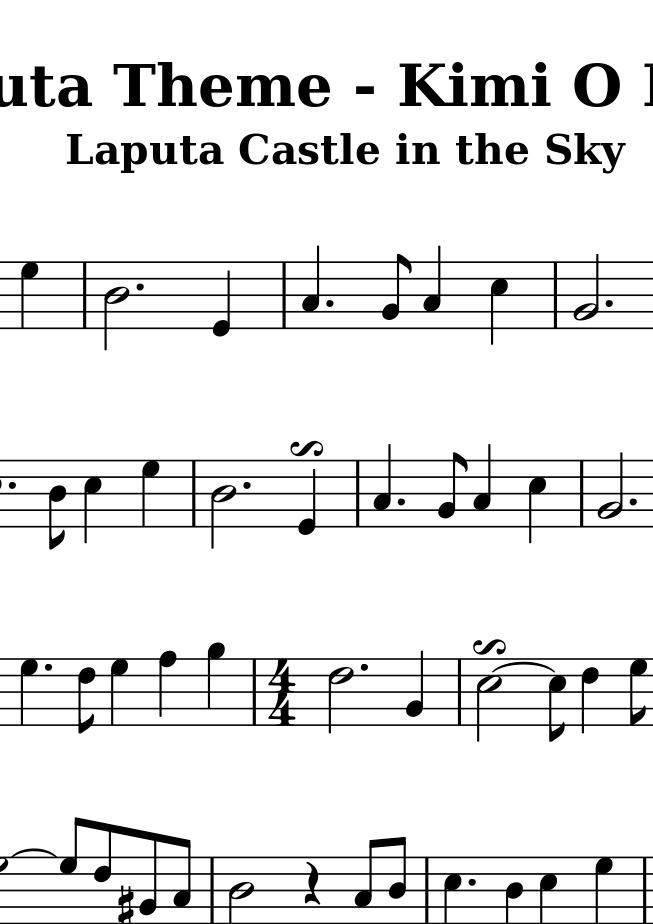2_2: (599, 452, 627, 531), (573, 254, 601, 331)
2_4: (209, 458, 238, 551), (104, 261, 132, 352)
2_5: (474, 656, 503, 743)
2_6: (327, 656, 355, 732)
4: (265, 692, 301, 725), (265, 659, 298, 692)
4_0: (297, 458, 318, 537), (213, 259, 232, 338)
4_2: (405, 649, 426, 728)
4_3: (472, 443, 496, 530), (372, 443, 394, 529), (302, 244, 322, 331), (423, 246, 442, 331)
4_5: (83, 456, 104, 548), (489, 260, 510, 343), (527, 458, 546, 545)
4_6: (579, 656, 600, 736)
4_7: (107, 657, 131, 728), (139, 459, 161, 530), (18, 261, 39, 329), (19, 657, 38, 728)
4_8: (157, 650, 179, 727)
4_9: (205, 642, 228, 728)
8_2: (437, 451, 469, 530), (381, 254, 412, 331), (138, 829, 160, 924)
8_3: (353, 838, 379, 924), (169, 835, 194, 924)
8_4: (47, 458, 72, 550), (388, 834, 409, 924)
8_5: (546, 656, 567, 746)
8_6: (94, 820, 114, 924), (75, 657, 98, 736)
8_7: (59, 814, 86, 924), (625, 659, 648, 727)
Inverted_turn: (287, 437, 325, 459), (470, 637, 508, 657)
Rests4: (300, 861, 322, 907)
Single_barline: (203, 857, 221, 923), (573, 460, 591, 526), (451, 659, 469, 724), (185, 459, 202, 526), (77, 262, 94, 328), (350, 459, 366, 528), (276, 262, 292, 328), (419, 857, 435, 922), (548, 262, 563, 328), (637, 856, 652, 922)
Slur: (491, 661, 554, 674)
TimeSig: (267, 658, 299, 728)
dot: (132, 279, 147, 295), (356, 659, 371, 675), (626, 493, 639, 511), (239, 477, 253, 492), (602, 296, 615, 311), (324, 297, 337, 310), (42, 660, 53, 675), (465, 874, 477, 887), (396, 496, 407, 509)
